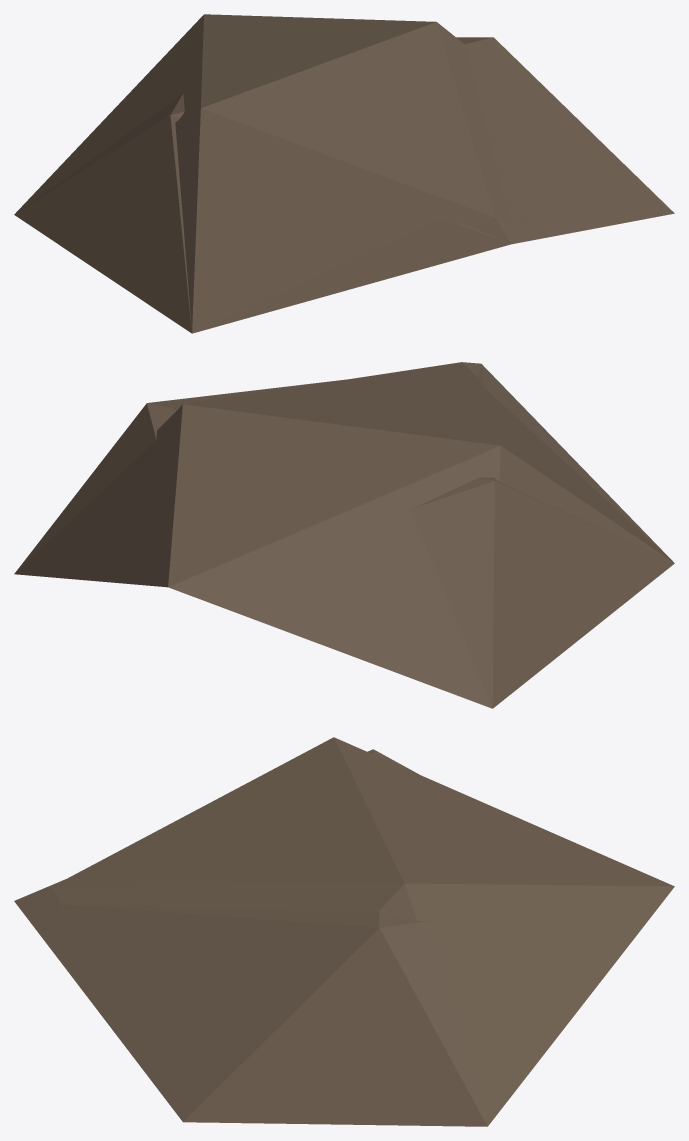
File: p400_rock_b.dae
The picture shows the model from 3 angles, top to bottom: view 1: azimuth 30°, elevation 25°; view 2: azimuth 150°, elevation 25°; view 3: azimuth 270°, elevation 25°; orthographic projection. The views are drawn at different scales.
Parts seen in each view (by area): view 1: p400_rock_b; view 2: p400_rock_b; view 3: p400_rock_b.
Part boxes in pixels (box(x1,y1,x2,y2)): p400_rock_b: box(14, 14, 674, 333); p400_rock_b: box(14, 362, 674, 708); p400_rock_b: box(14, 737, 674, 1126).
Size of the model in its own units: 1.64 by 1.73 by 0.524.
